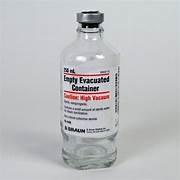Iv_Bottle: (60, 11, 119, 168)
